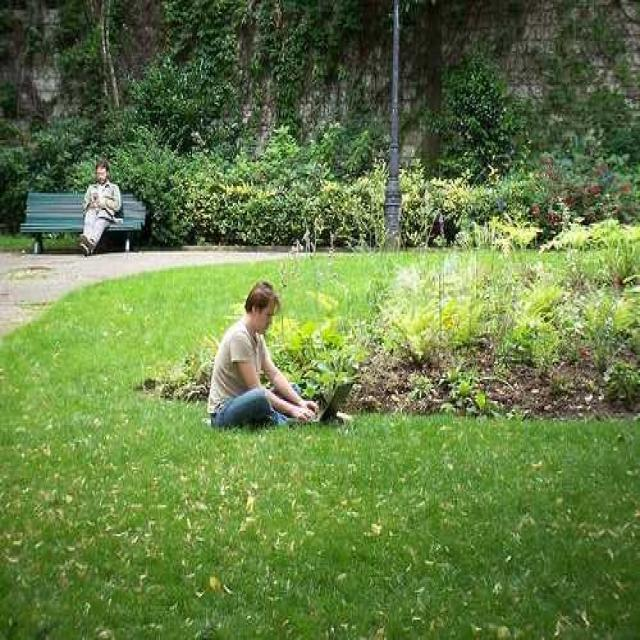laptop: (297, 384, 355, 426)
